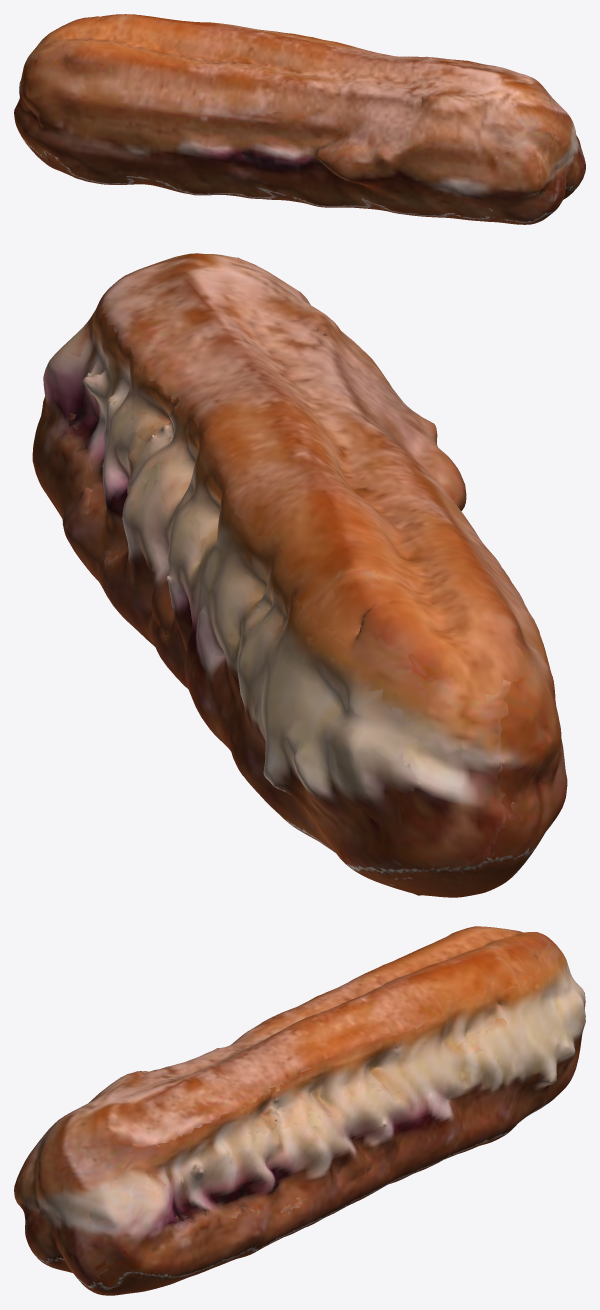
The model's file is eclaire_28132.obj.
The picture shows the model from 3 angles, top to bottom: view 1: azimuth 30°, elevation 25°; view 2: azimuth 150°, elevation 25°; view 3: azimuth 270°, elevation 25°; orthographic projection. The views are drawn at different scales.
Size of the model in its own units: 93.84 by 31.59 by 91.28.
Materials: 1 (1 with a texture image).
